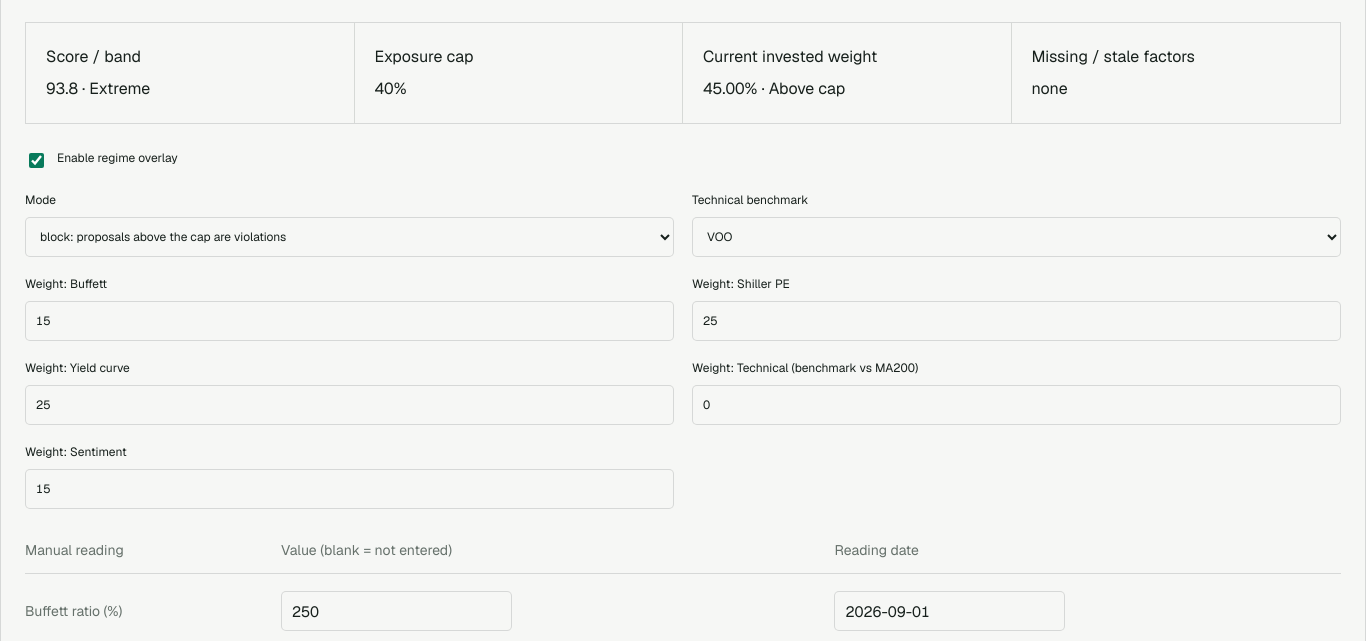
Test: keeps edits made during save and uses the acknowledged version on the next save
Replace the text in the field labelled "Weight: Buffett" with "22" at x=350, y=321, box left=25, top=301, right=674, bottom=341
(page scrolled)
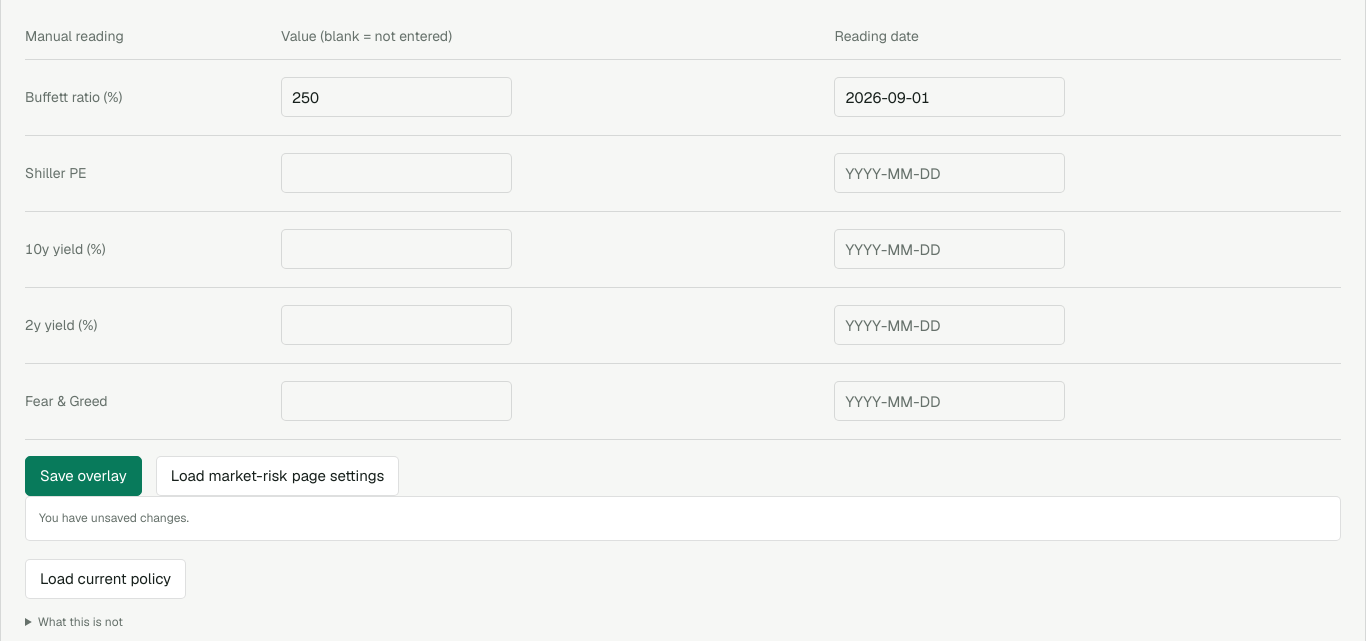
Click the button "Save overlay" at x=83, y=476, box left=25, top=456, right=142, bottom=496
(page scrolled)
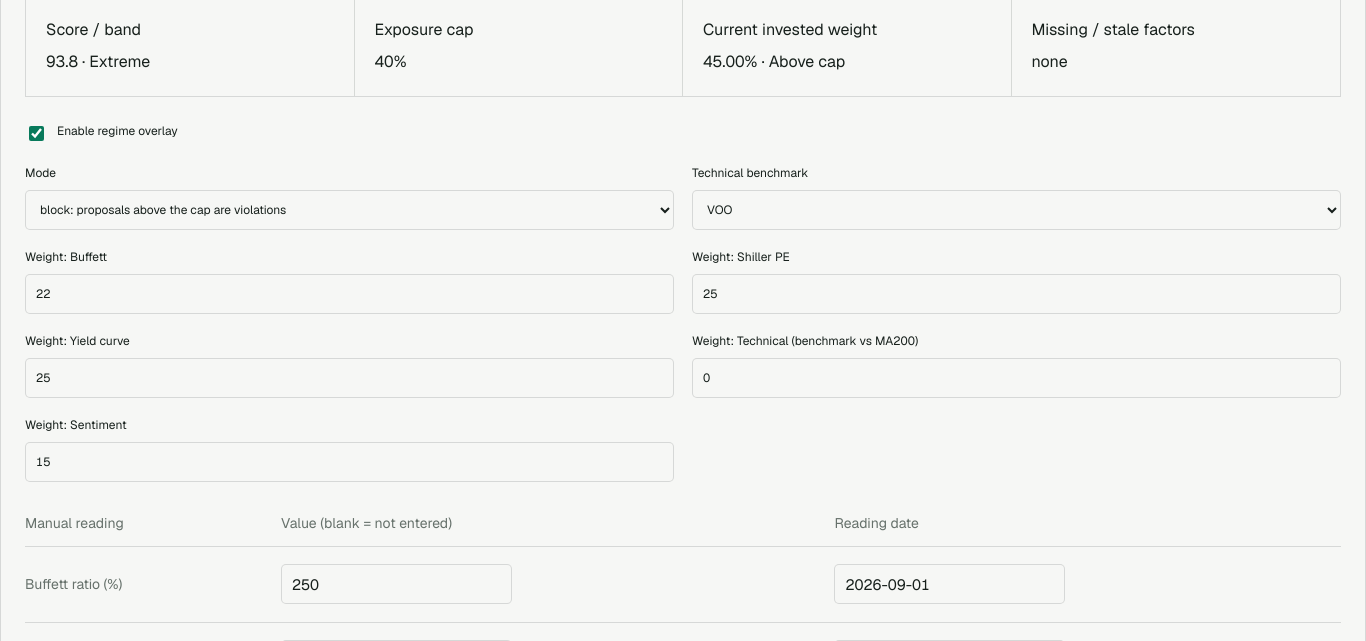
Replace the text in the field labelled "Weight: Buffett" with "24" at x=350, y=294, box left=25, top=274, right=674, bottom=314
(page scrolled)
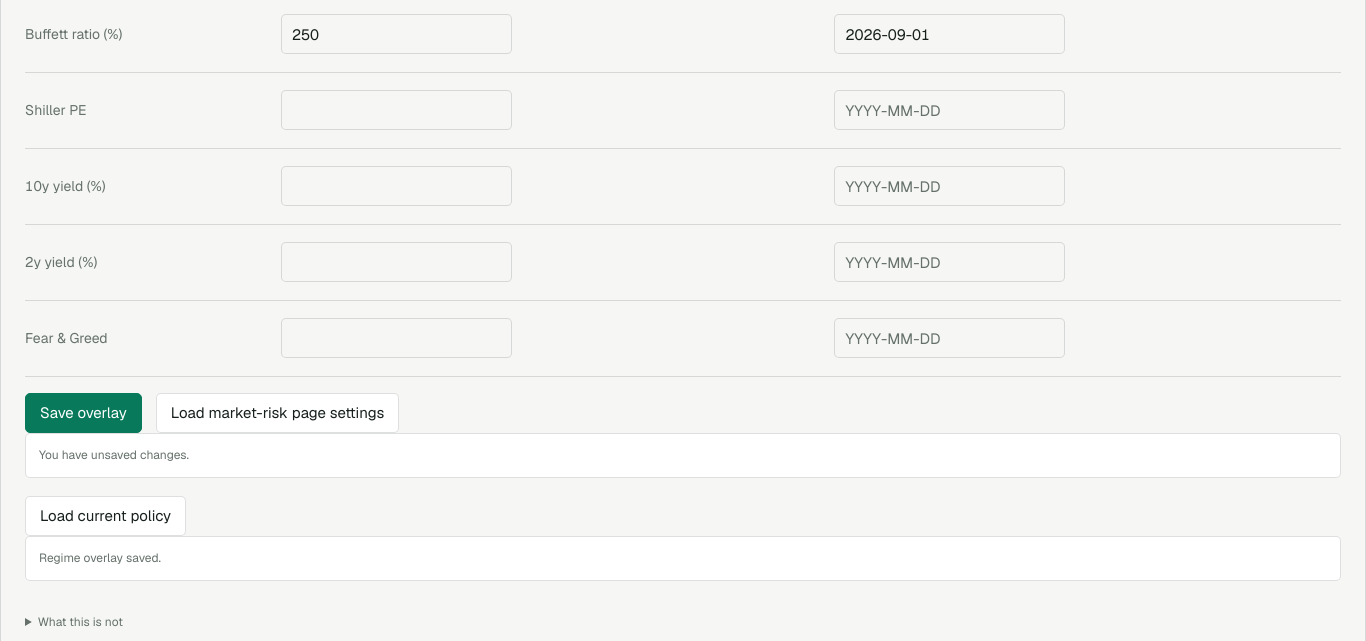
expect the text "You have unsaved changes." is shown: met, box left=25, top=432, right=1341, bottom=478
expect the text "Regime overlay saved." is shown: met, box left=25, top=536, right=1341, bottom=580
Click the button "Save overlay" at x=83, y=412, box left=25, top=392, right=142, bottom=432
(page scrolled)
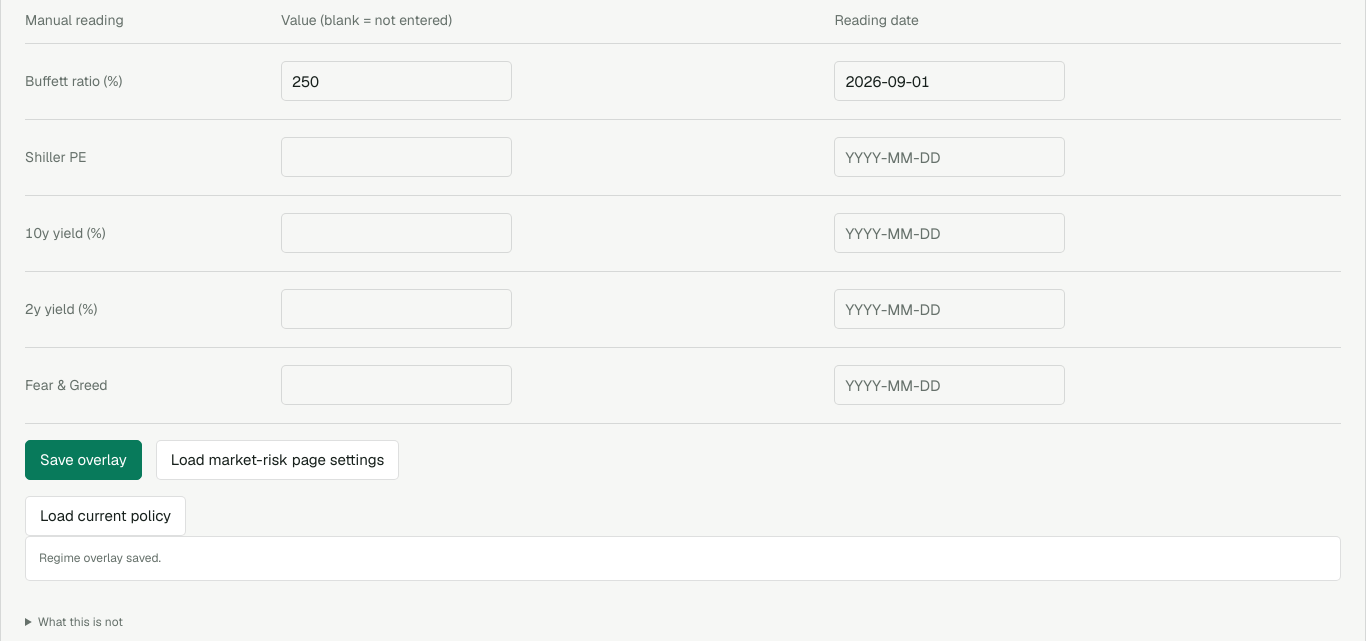
expect the text "You have unsaved changes." is gone: met
